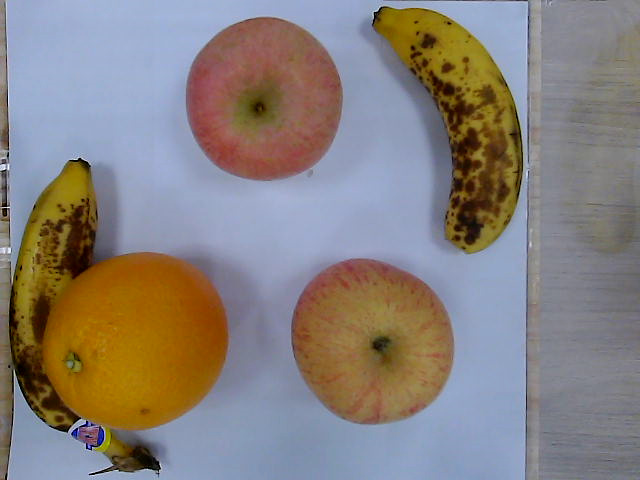fresh_apple: (291, 260, 453, 427), (186, 17, 344, 180)
fresh_orange: (44, 252, 228, 431)
rotten_banana: (11, 158, 164, 473), (373, 6, 525, 256)
